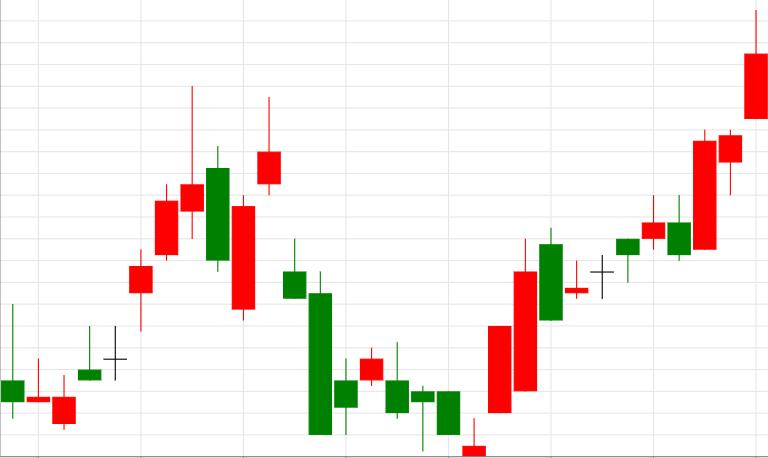morning_star_rise: (284, 238, 511, 458)
shooting_star_fall: (53, 85, 203, 430)
